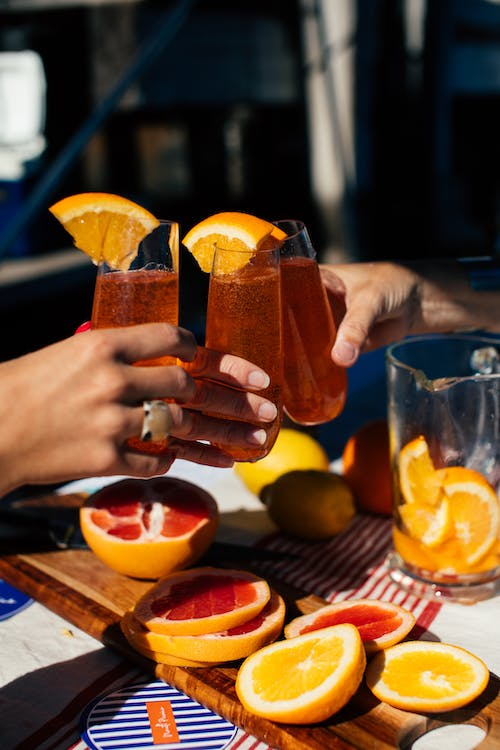alcohol: (87, 215, 181, 453), (202, 240, 286, 463), (266, 217, 348, 427)
